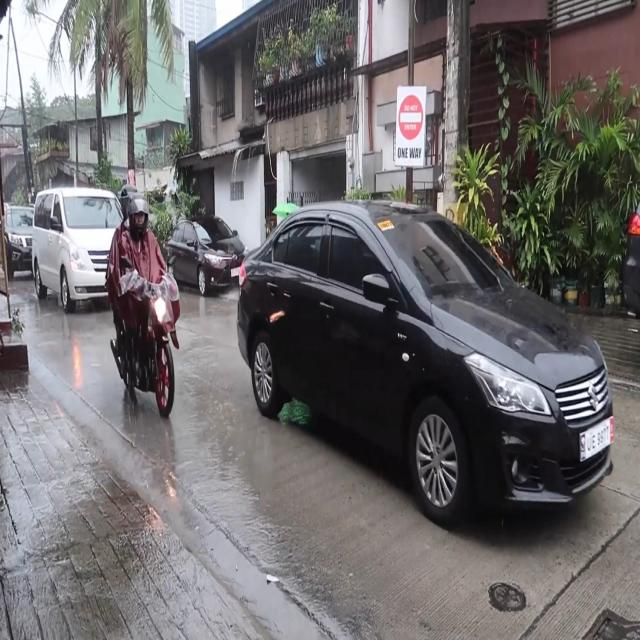full: (128, 191, 149, 244)
